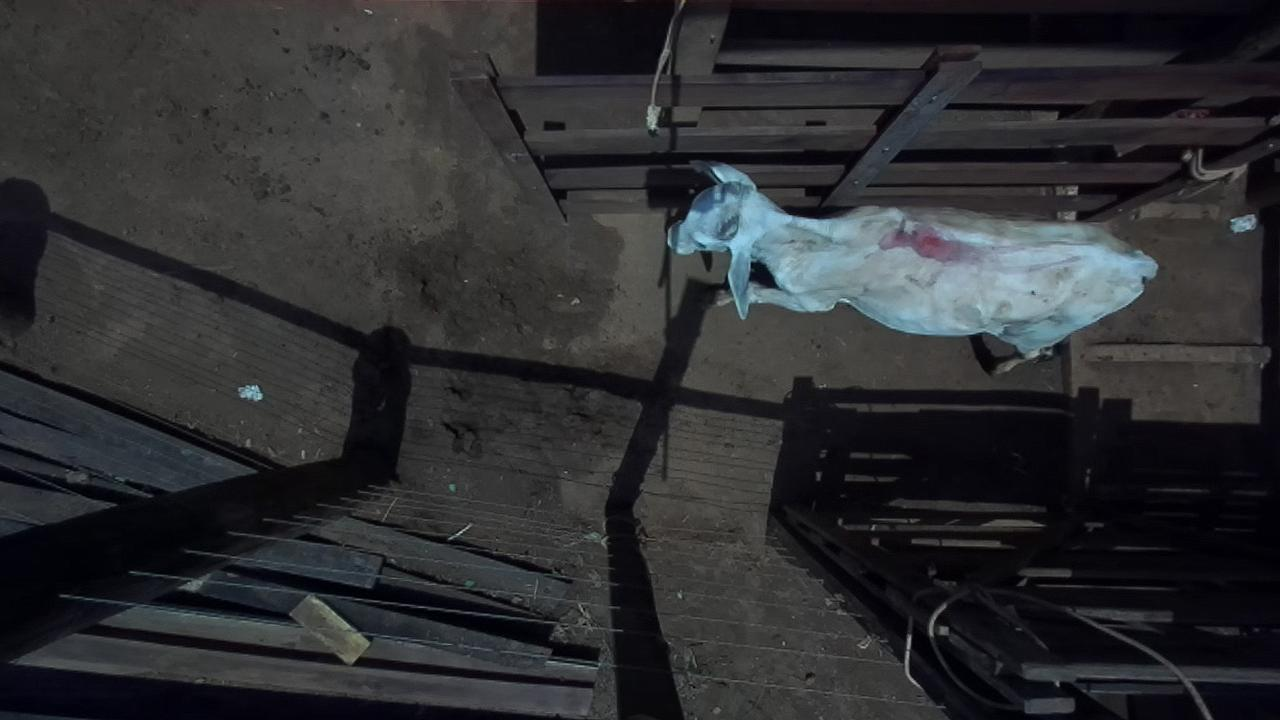cattle: (665, 157, 1159, 375)
